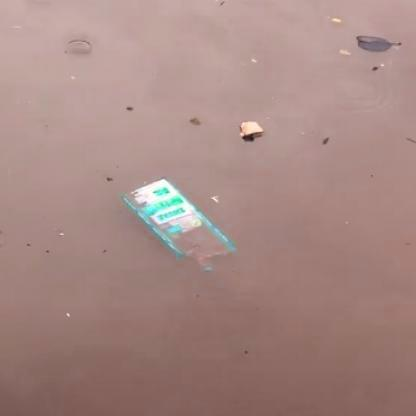Trash: (122, 167, 238, 275), (235, 117, 266, 139)
